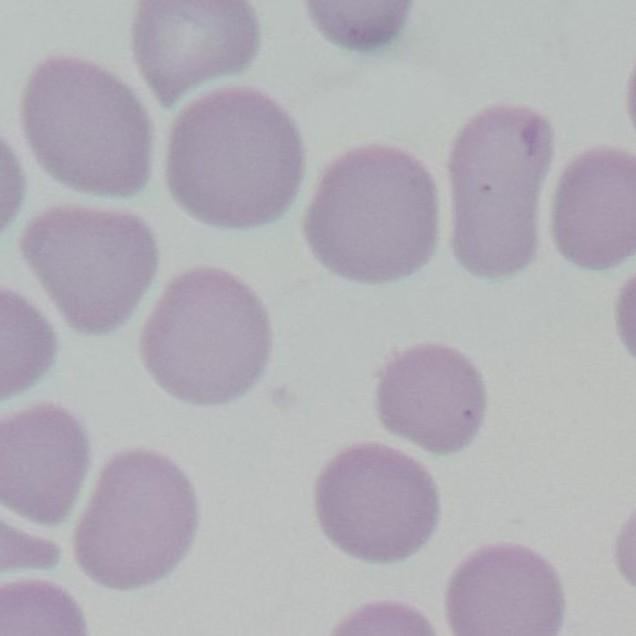Uninfected: (167, 89, 304, 226), (451, 108, 556, 281), (303, 149, 438, 283), (143, 271, 274, 406), (23, 59, 152, 195), (23, 207, 156, 334), (78, 450, 197, 588), (314, 445, 440, 562), (132, 0, 260, 102), (379, 345, 486, 455), (2, 404, 87, 529), (553, 149, 636, 272), (450, 547, 563, 633), (309, 1, 413, 48)
